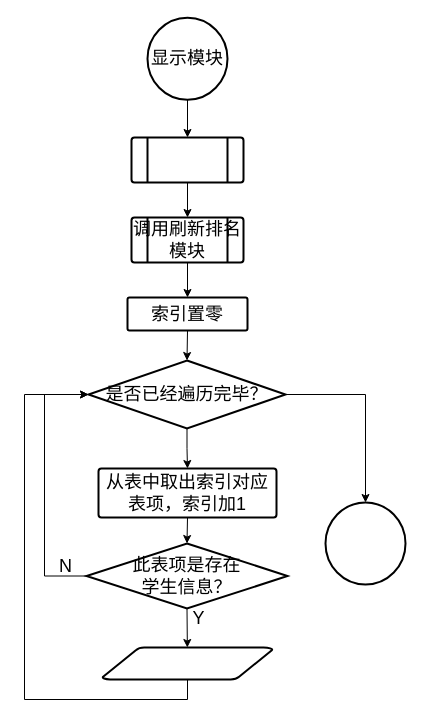
Image size: 424x726. Some labels were removed from this diagram. The shapes that lost their labels are listed below. From the top down, each one's centre as x and y in pixels, then its label:
point 187,159: 调用刷新平均成绩模块
point 365,543: 模块结束
point 187,663: 输出学生信息
